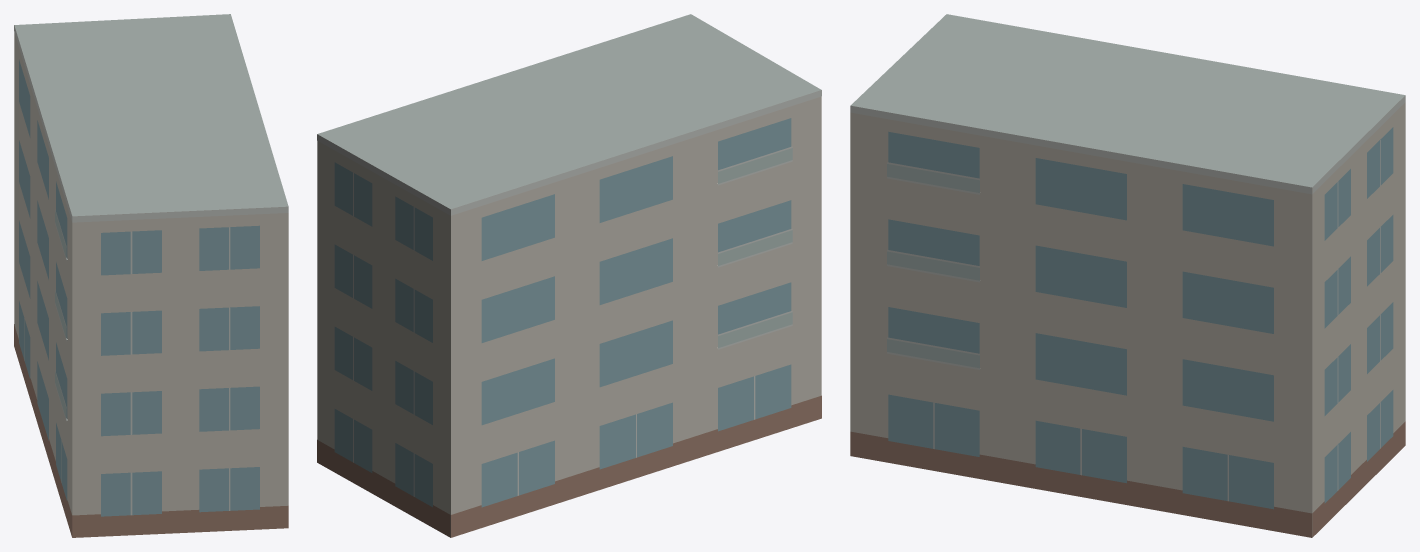
File: survey-upis-33010272.glb
The picture shows the model from 3 angles, left to right: view 1: azimuth 30°, elevation 25°; view 2: azimuth 150°, elevation 25°; view 3: azimuth 270°, elevation 25°; orthographic projection. The views are drawn at different scales.
Visible parts, largest first — view 1: survey-upis-33010272.tmp; view 2: survey-upis-33010272.tmp; view 3: survey-upis-33010272.tmp.
Part boxes in pixels (<box>): survey-upis-33010272.tmp: <box>14,14,288,537</box>; survey-upis-33010272.tmp: <box>317,14,821,537</box>; survey-upis-33010272.tmp: <box>850,14,1405,537</box>.
Size of the model in its own units: 13.17 by 12.4 by 17.81.
